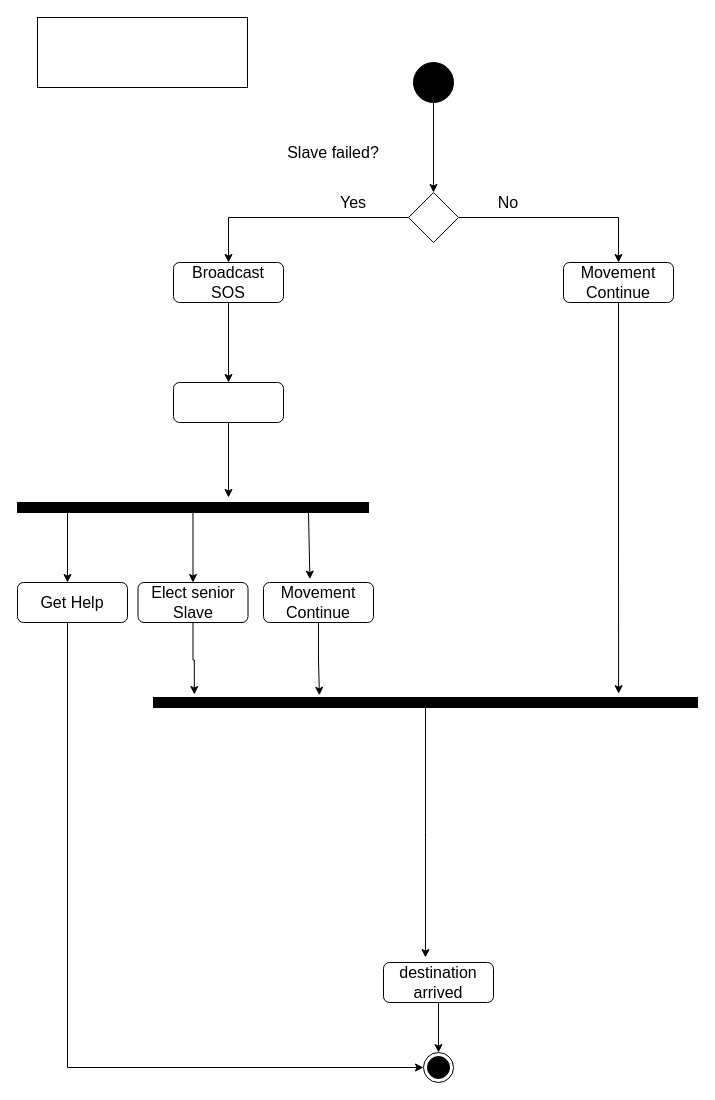
This 715x1100 diagram has some shape labels left out. The shapes that lost their labels are listed below. From the top down, each one's centre as x and y in pixels, then its label:
point (142, 52): Slave Fail
point (228, 402): Retire Truck
